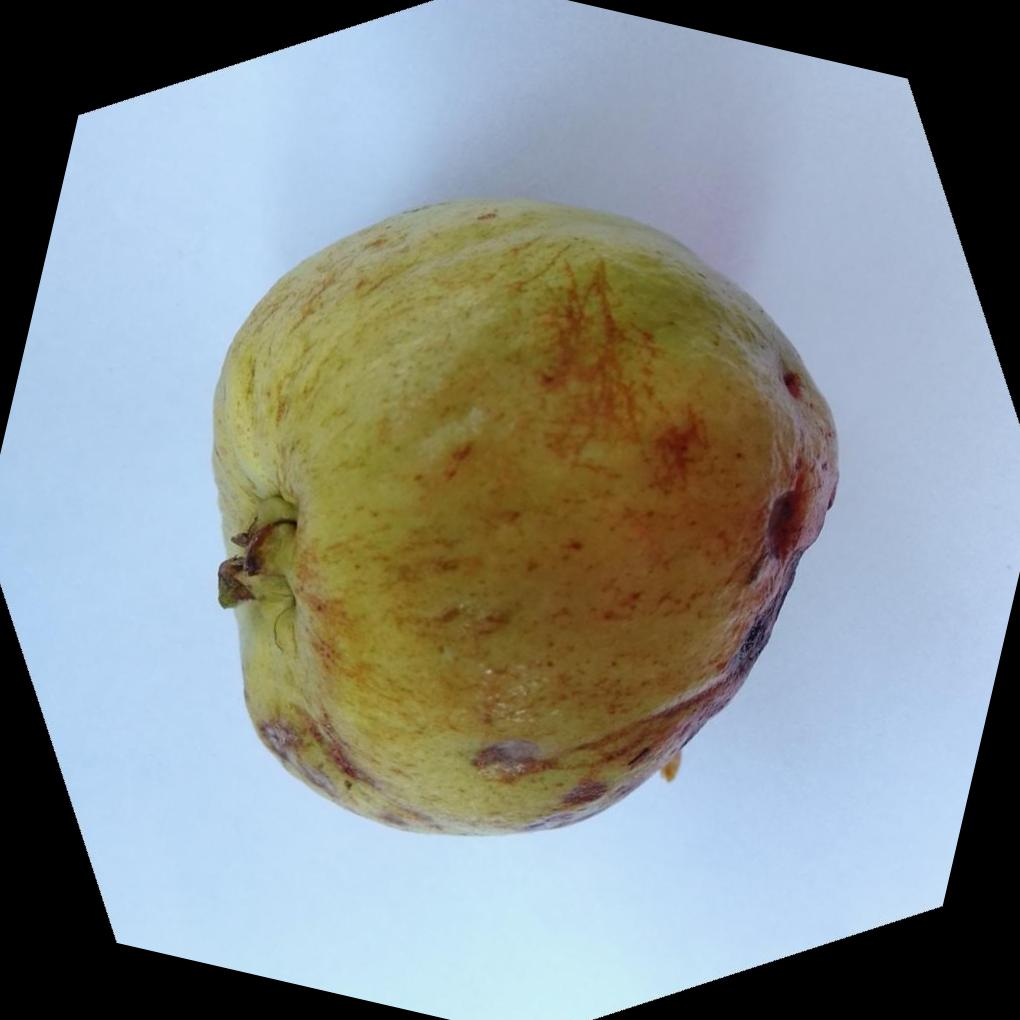FreshOrange: (209, 200, 839, 841)
